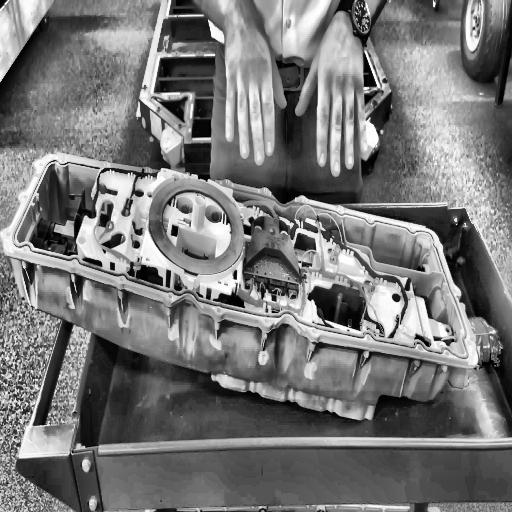bms_unit: (0, 152, 479, 424)
connector: (148, 178, 246, 276)
